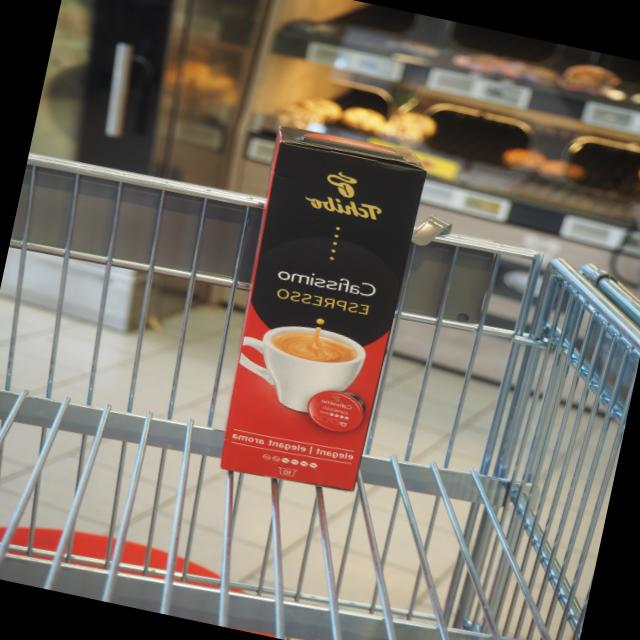Simo Es Elegant: (213, 120, 434, 496)
